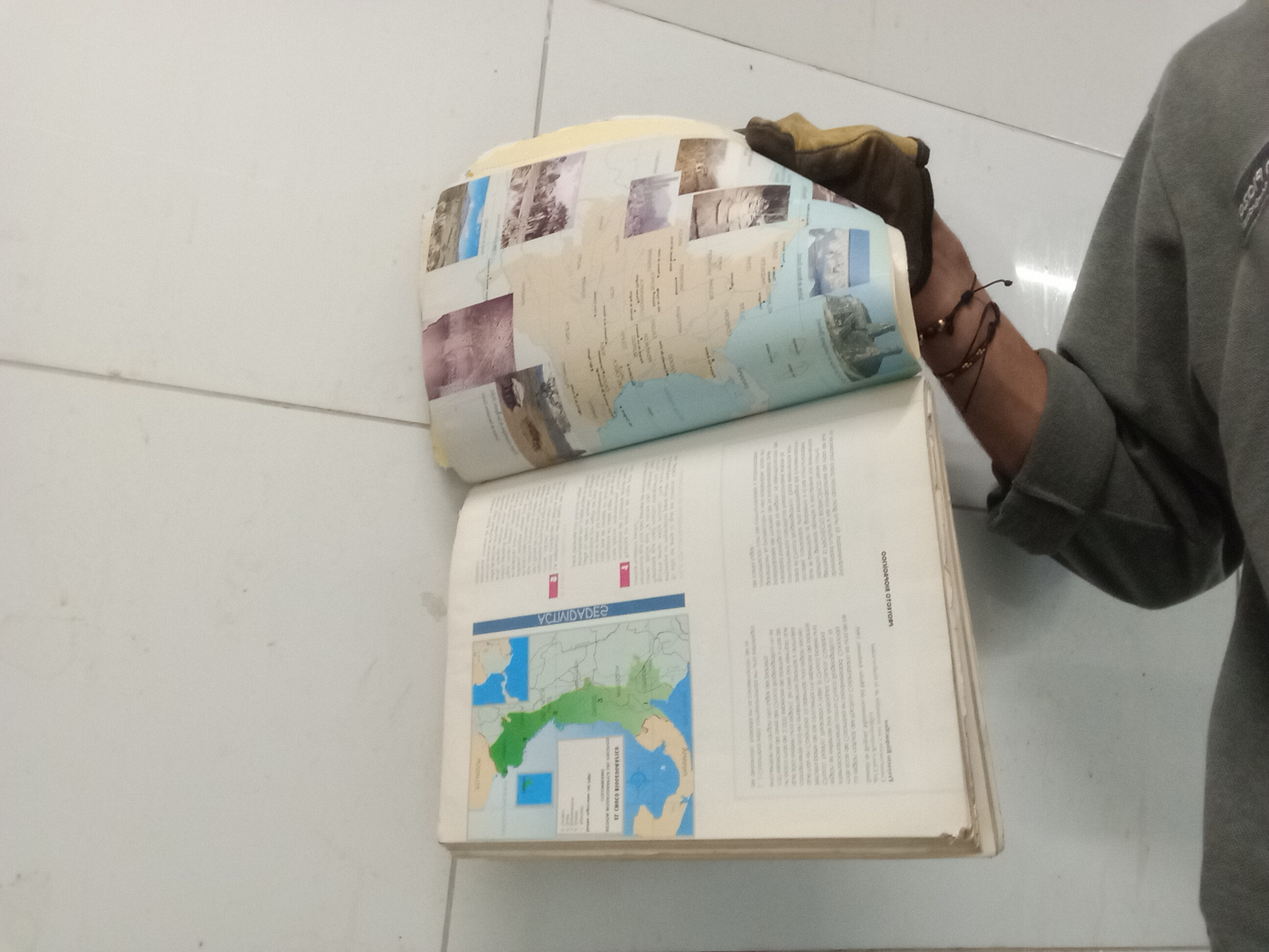Papel: (422, 121, 1009, 855)
